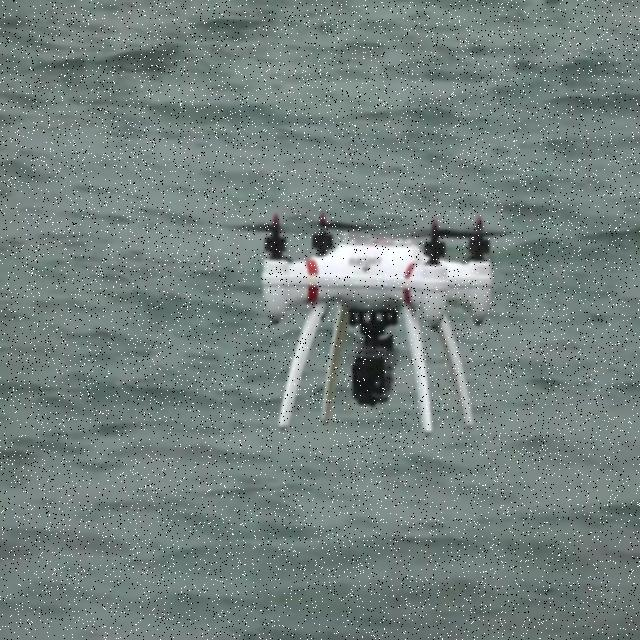UAV: (217, 210, 511, 437)
